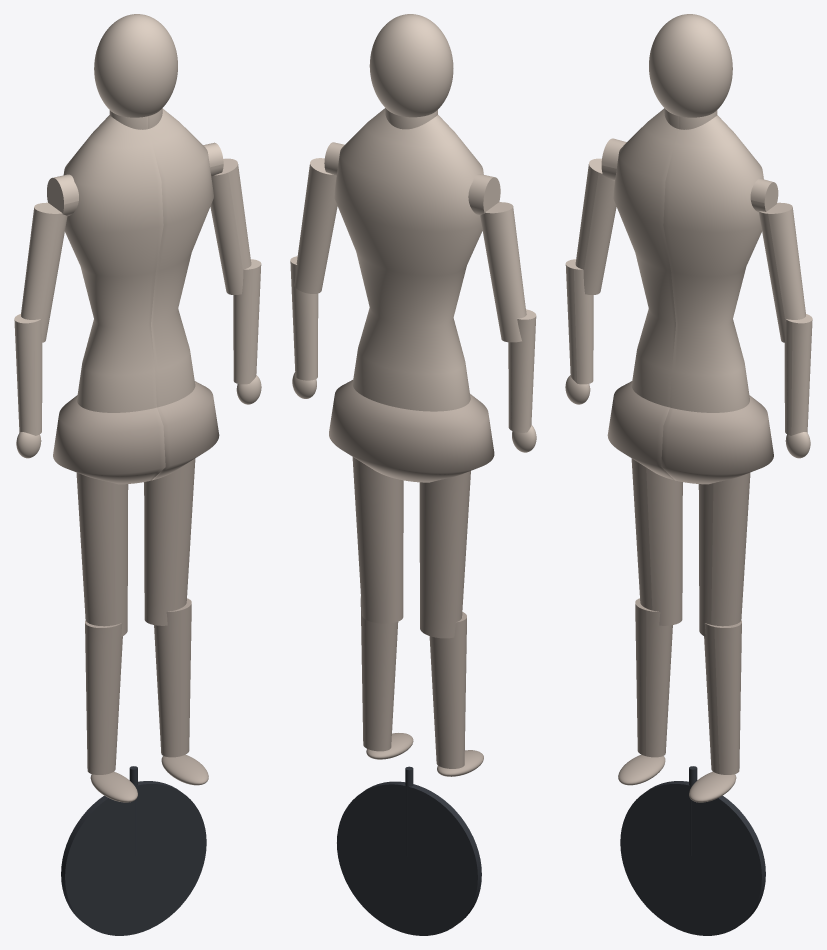
File: default-mannequin.glb
3 views of the same model, side by side, from view 1: azimuth 30°, elevation 25°; view 2: azimuth 150°, elevation 25°; view 3: azimuth 330°, elevation 25° (orthographic).
Parts seen in each view (by area): view 1: continuous_torso, display_base, thigh (×2), smooth_pelvis, calf (×2), upper_arm (×2), featureless_head, forearm (×2), simple_foot (×2), shoulder_bar, neck, mitten_hand; view 2: continuous_torso, display_base, thigh (×2), smooth_pelvis, calf (×2), upper_arm (×2), featureless_head, forearm (×2), shoulder_bar, simple_foot (×2), neck; view 3: continuous_torso, display_base, thigh (×2), smooth_pelvis, calf (×2), upper_arm (×2), featureless_head, forearm (×2), simple_foot (×2), shoulder_bar, neck, mitten_hand.
Part boxes in pixels (bbox=[...]): continuous_torso: bbox=[63, 108, 213, 412]; display_base: bbox=[61, 781, 206, 935]; thigh (×2): bbox=[76, 458, 195, 636]; smooth_pelvis: bbox=[53, 381, 219, 484]; calf (×2): bbox=[85, 598, 191, 774]; upper_arm (×2): bbox=[21, 158, 251, 342]; featureless_head: bbox=[94, 14, 177, 117]; forearm (×2): bbox=[14, 259, 261, 435]; simple_foot (×2): bbox=[90, 754, 208, 802]; shoulder_bar: bbox=[47, 142, 223, 216]; neck: bbox=[109, 108, 162, 129]; mitten_hand: bbox=[16, 432, 41, 458]; continuous_torso: bbox=[334, 108, 483, 411]; display_base: bbox=[337, 781, 481, 935]; thigh (×2): bbox=[352, 457, 470, 638]; smooth_pelvis: bbox=[329, 380, 494, 482]; calf (×2): bbox=[360, 596, 466, 768]; upper_arm (×2): bbox=[294, 158, 526, 342]; featureless_head: bbox=[369, 14, 453, 117]; forearm (×2): bbox=[290, 256, 536, 432]; shoulder_bar: bbox=[324, 142, 500, 215]; simple_foot (×2): bbox=[366, 733, 483, 776]; neck: bbox=[385, 108, 437, 129]; continuous_torso: bbox=[613, 108, 763, 412]; display_base: bbox=[620, 781, 765, 935]; thigh (×2): bbox=[631, 458, 750, 636]; smooth_pelvis: bbox=[607, 381, 773, 484]; calf (×2): bbox=[635, 598, 741, 774]; upper_arm (×2): bbox=[575, 158, 805, 342]; featureless_head: bbox=[649, 14, 732, 117]; forearm (×2): bbox=[565, 259, 812, 435]; simple_foot (×2): bbox=[618, 754, 736, 802]; shoulder_bar: bbox=[601, 138, 778, 211]; neck: bbox=[664, 108, 717, 129]; mitten_hand: bbox=[785, 432, 810, 458].
Size of the model in its own units: 0.7241 by 2.6 by 0.3121.
